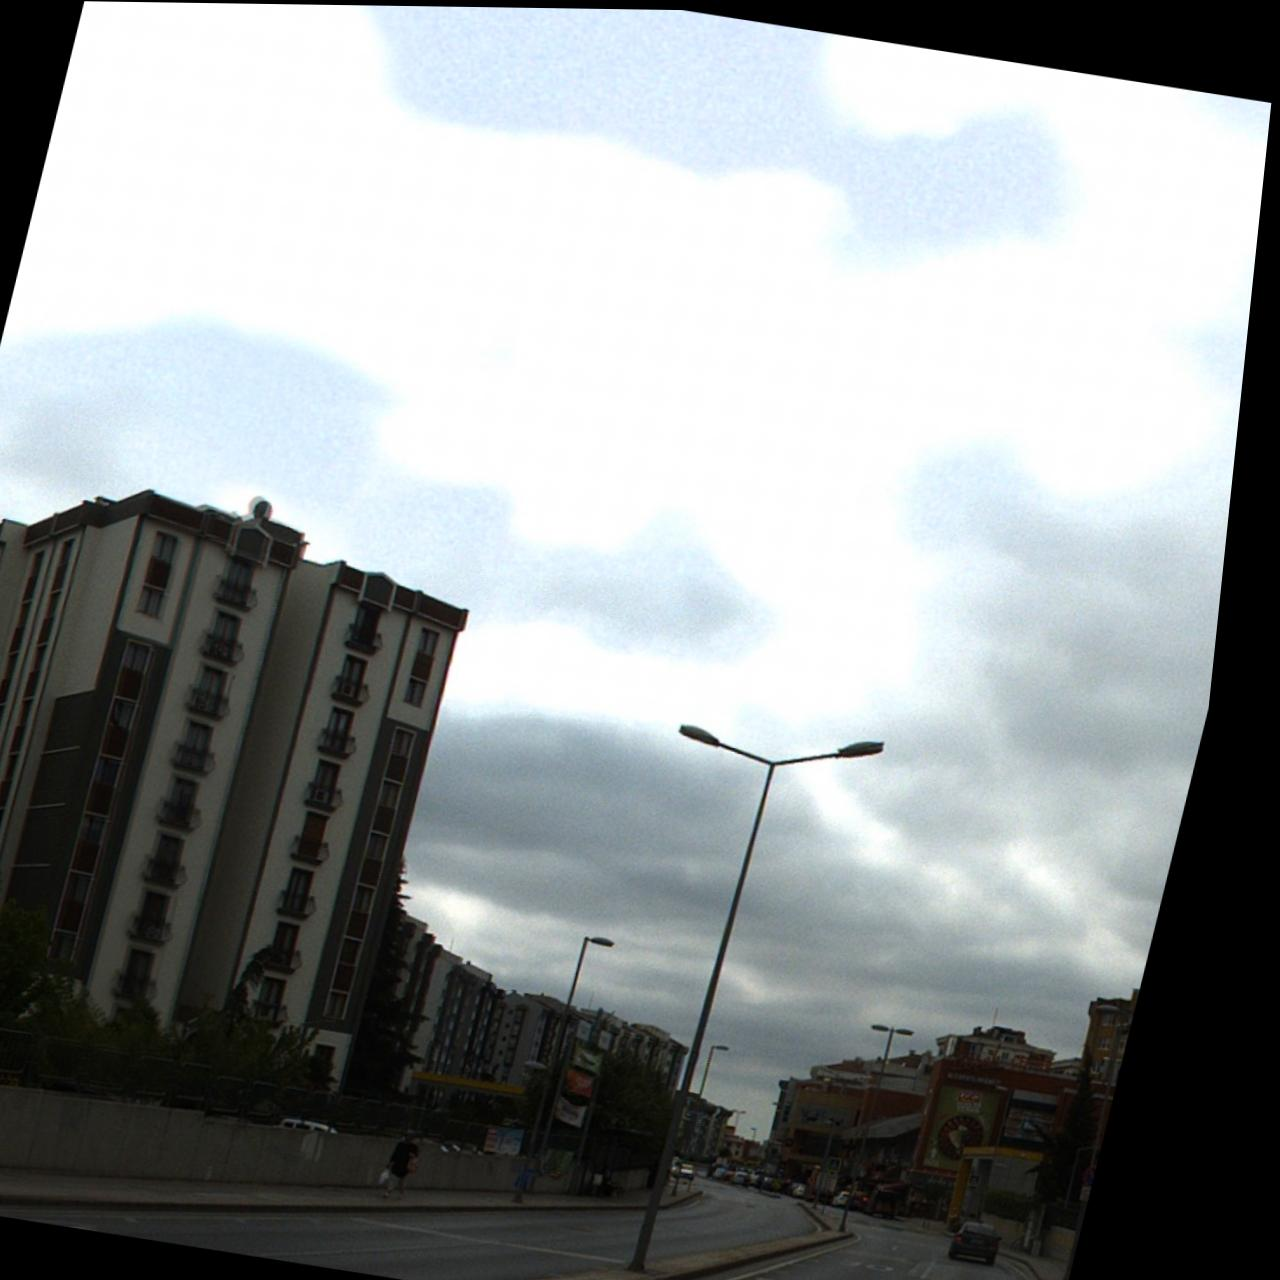SignStore: (937, 1167, 981, 1186)
